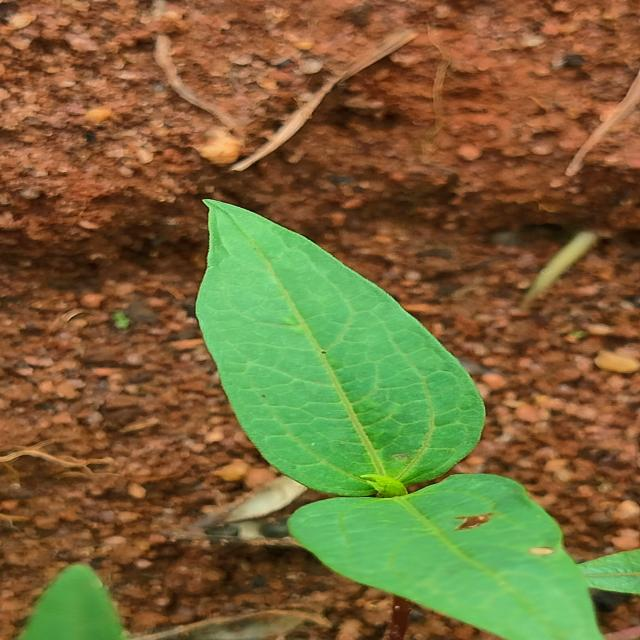Black gram_healthy: (199, 200, 488, 497), (283, 475, 622, 639)
